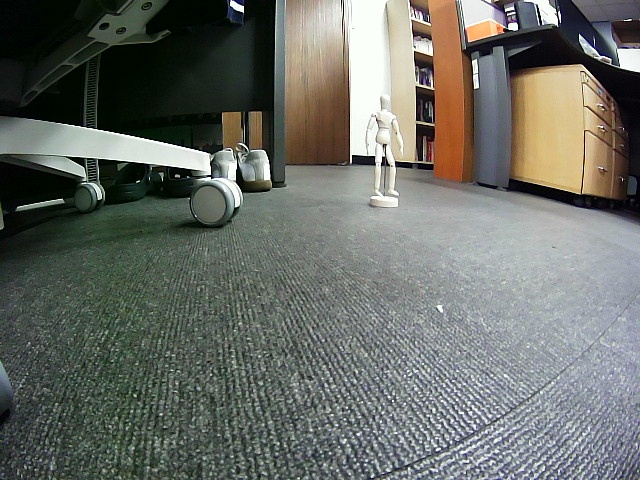person: (366, 94, 404, 196)
